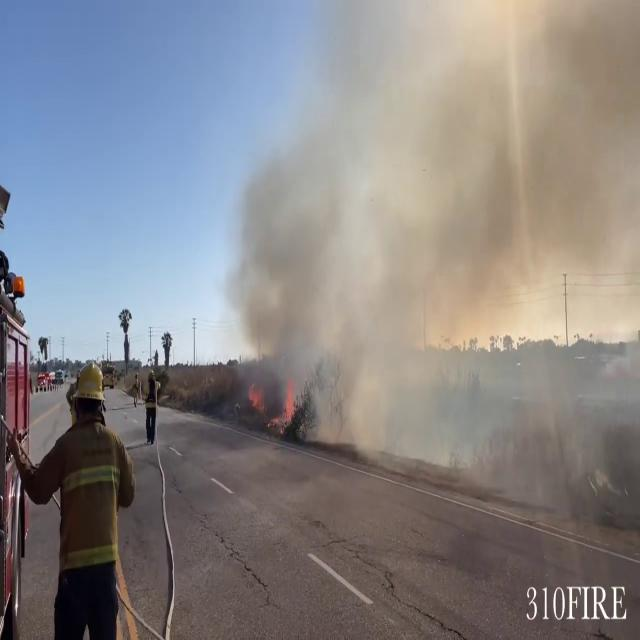Fire: (246, 372, 298, 435)
Smoke: (222, 0, 639, 428)
